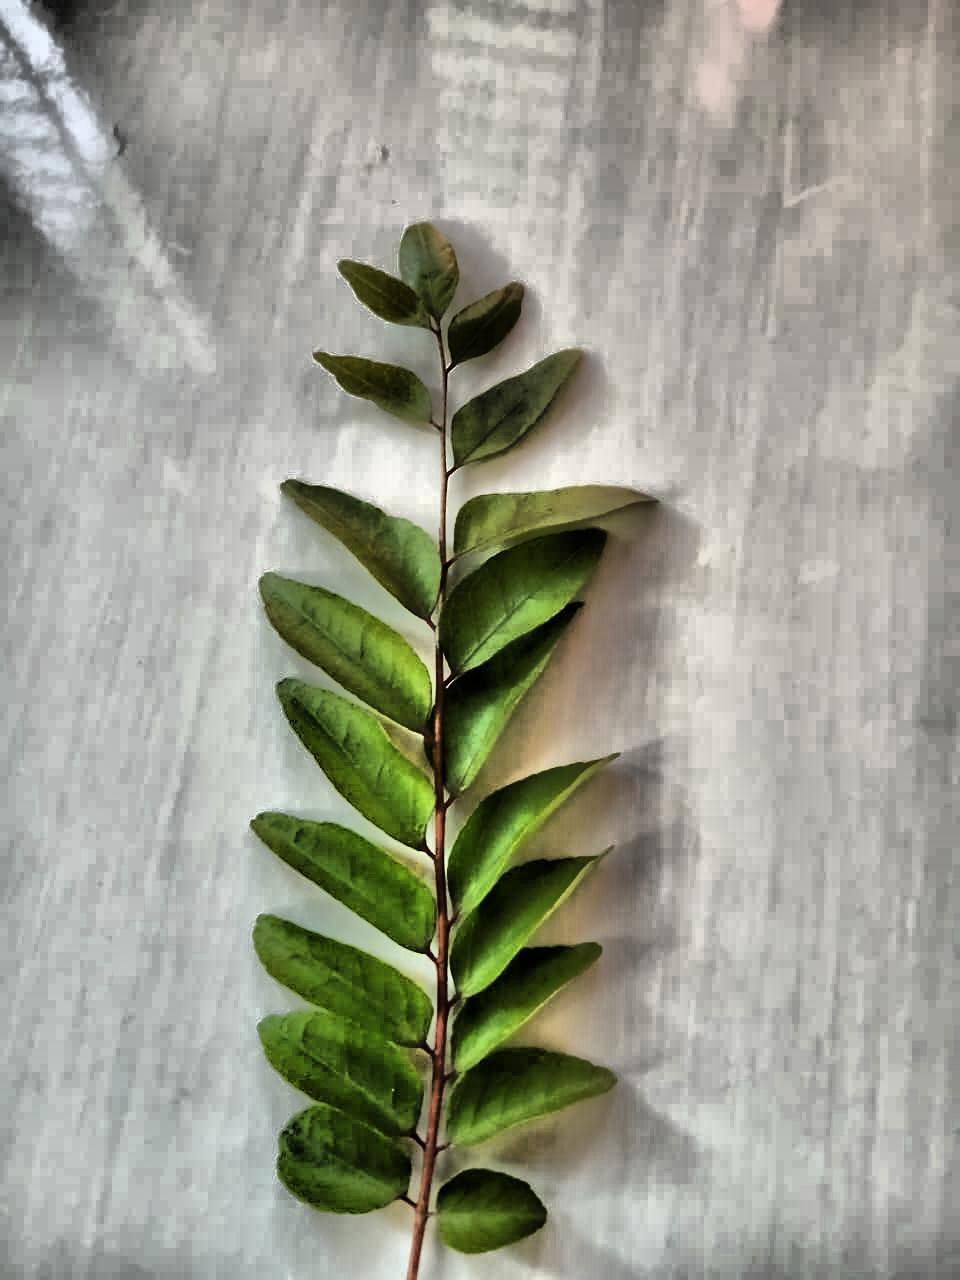daun kari: (251, 223, 636, 1279)
